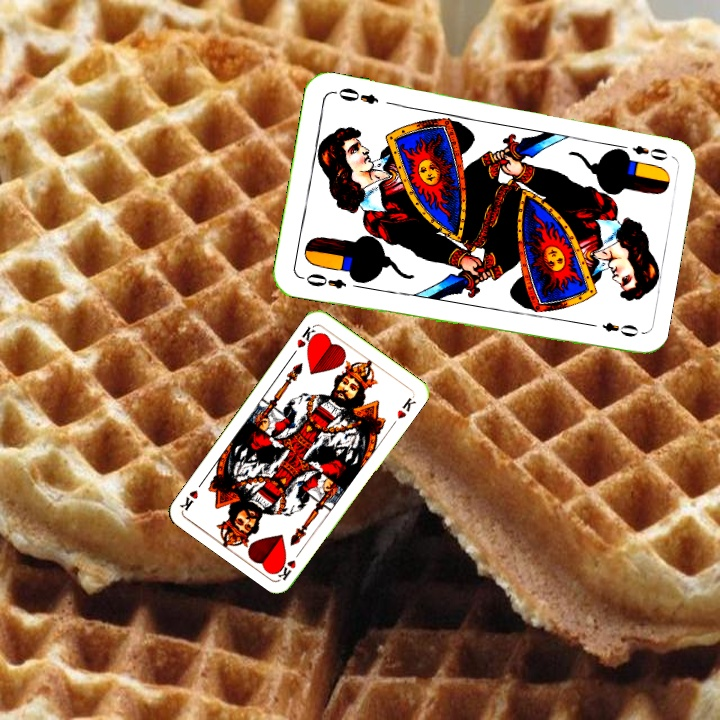EO: (614, 140, 670, 164), (297, 269, 349, 292)
HK: (274, 545, 305, 583), (293, 322, 321, 351)
